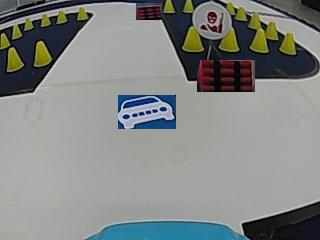evil: (192, 2, 231, 38)
